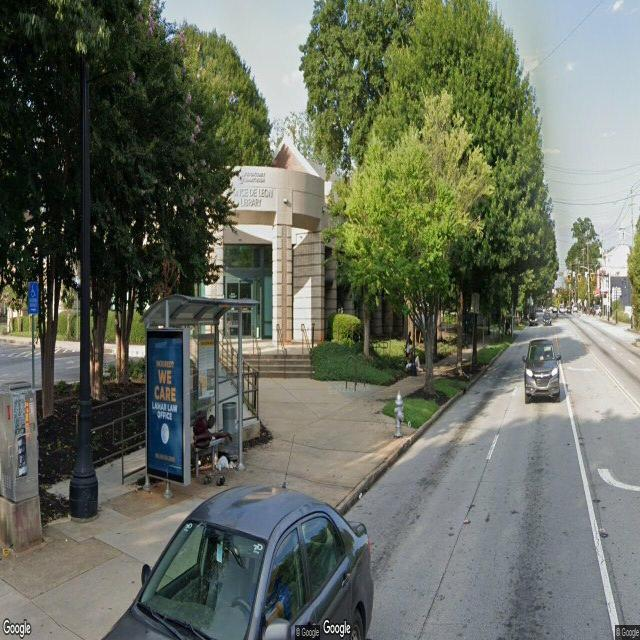seating: (191, 437, 227, 479)
shelter: (139, 294, 261, 498)
trash_can: (223, 402, 239, 459)
